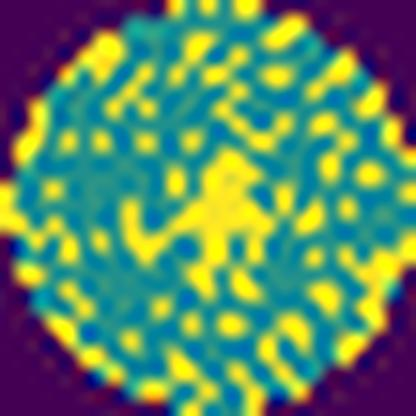Center: (121, 145, 280, 302)
